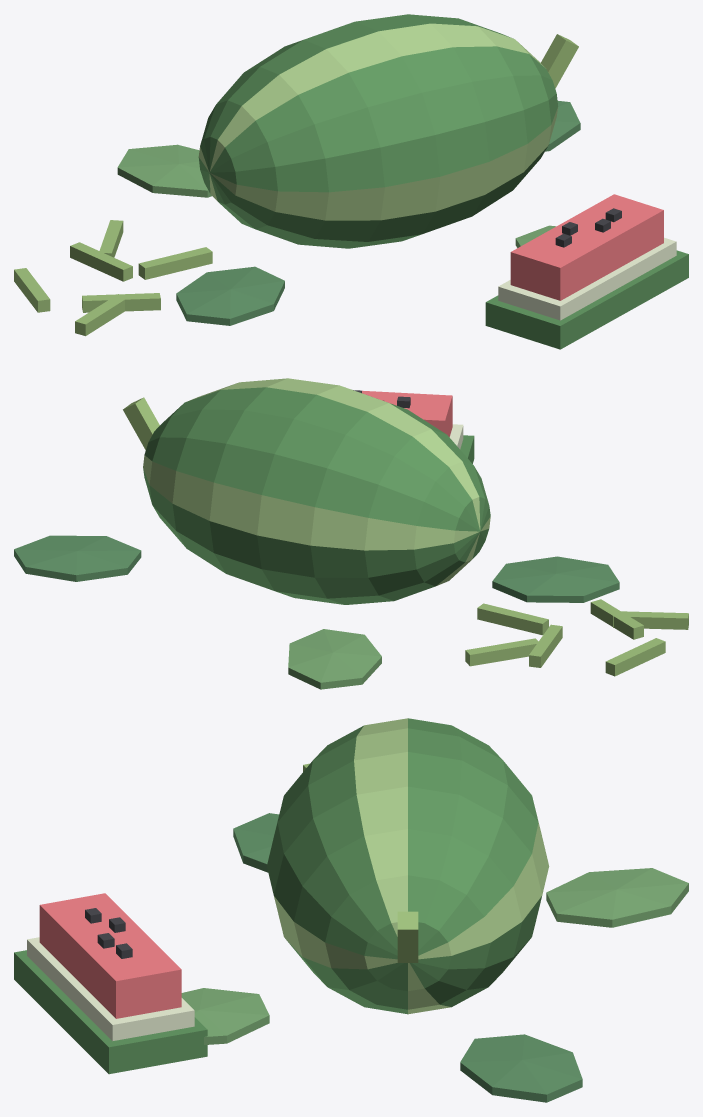
File: melon.glb
3 renders of one model, top to bottom at view 1: azimuth 30°, elevation 25°; view 2: azimuth 150°, elevation 25°; view 3: azimuth 270°, elevation 25°, orthographic. The views are drawn at different scales.
Visible parts, largest first — view 1: melon; view 2: melon; view 3: melon.
Boxes of the visible parts, left/top/right/bottom form: melon: left=14, top=14, right=688, bottom=349; melon: left=14, top=378, right=688, bottom=689; melon: left=14, top=718, right=688, bottom=1102.
Bounding box in the file's own units: 2.68 × 0.85 × 2.27.
